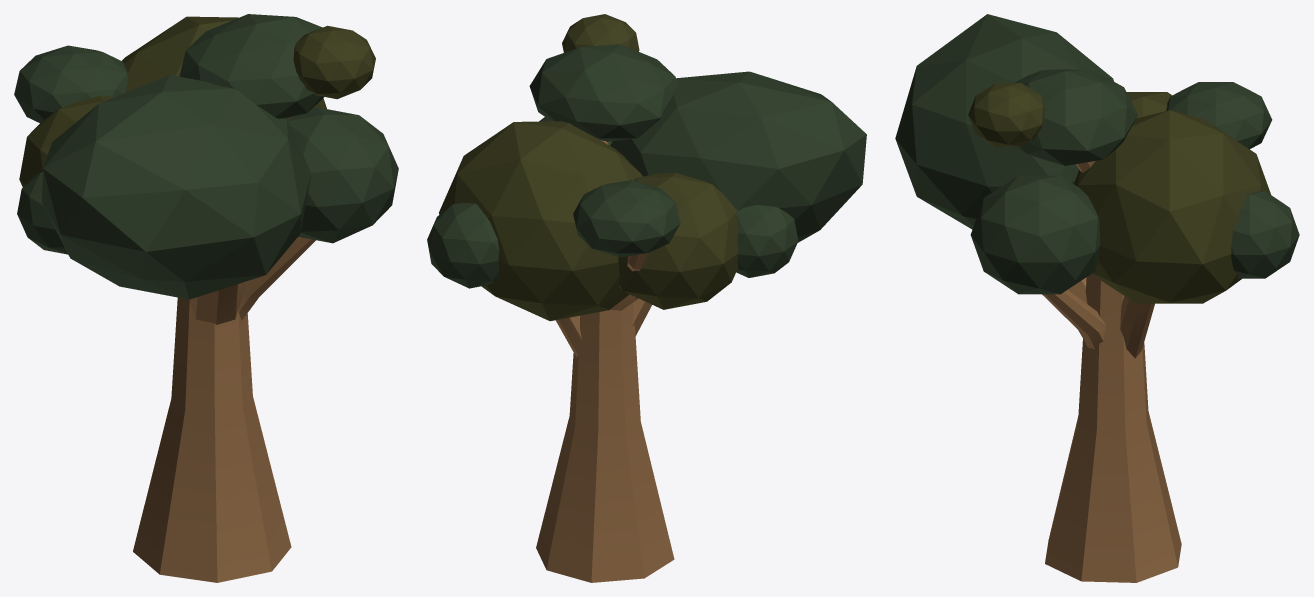
Rendered from drzewo1.fbx.
3 renders of one model, left to right at view 1: azimuth 30°, elevation 25°; view 2: azimuth 150°, elevation 25°; view 3: azimuth 270°, elevation 25°, orthographic. The views are drawn at different scales.
Parts seen in each view (by area): view 1: Cylinder.003; view 2: Cylinder.003; view 3: Cylinder.003.
Part boxes in pixels (box(x1,y1,x2,y2)): Cylinder.003: box(14, 14, 398, 582); Cylinder.003: box(427, 14, 866, 582); Cylinder.003: box(895, 14, 1299, 582).
Bounding box in the file's own units: 718 × 668 × 971.
